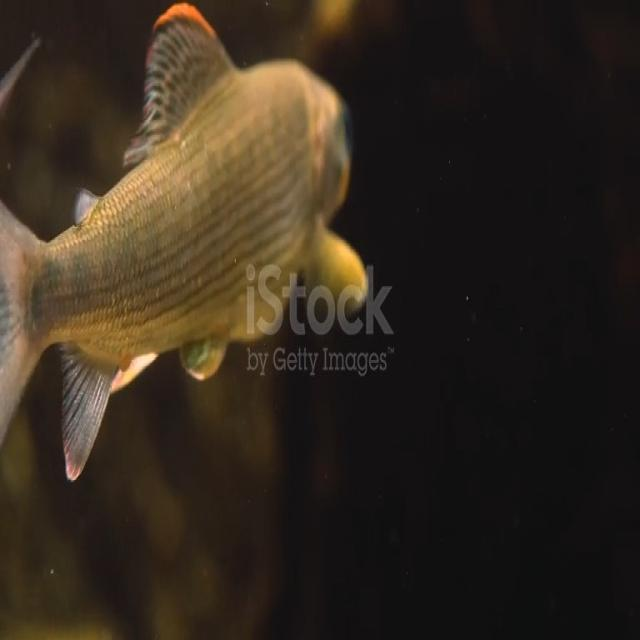fish: (1, 0, 369, 480)
